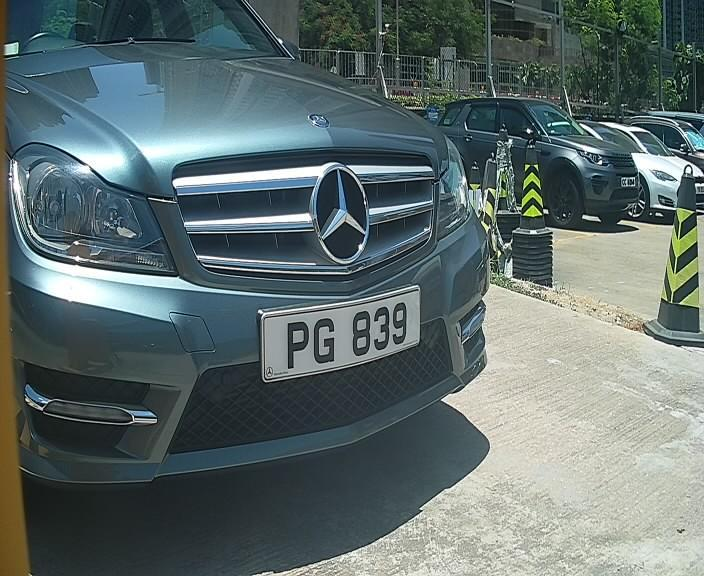privatecar: (2, 11, 509, 524)
